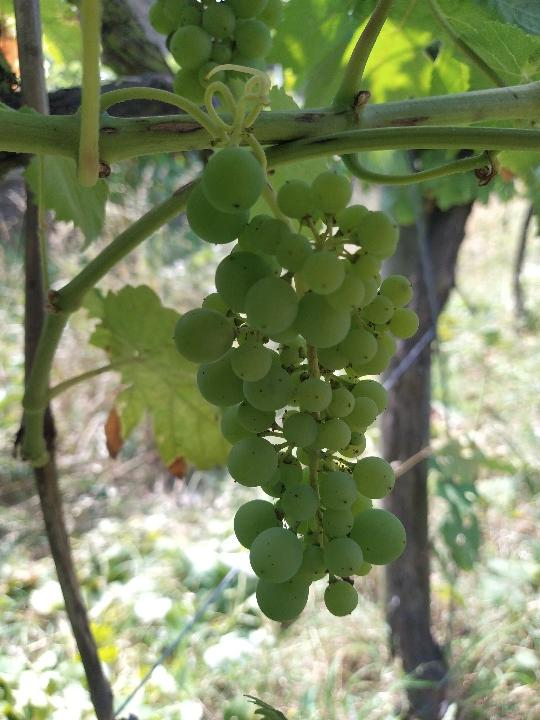grape: (166, 134, 425, 627)
